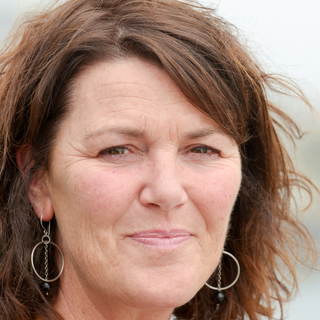eye: (94, 138, 136, 165), (182, 136, 222, 162)
